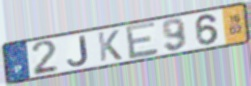2: (30, 40, 61, 77)
6: (194, 12, 220, 47)
9: (160, 18, 188, 53)
E: (123, 20, 161, 61)
J: (66, 34, 90, 67)
K: (96, 28, 124, 63)
